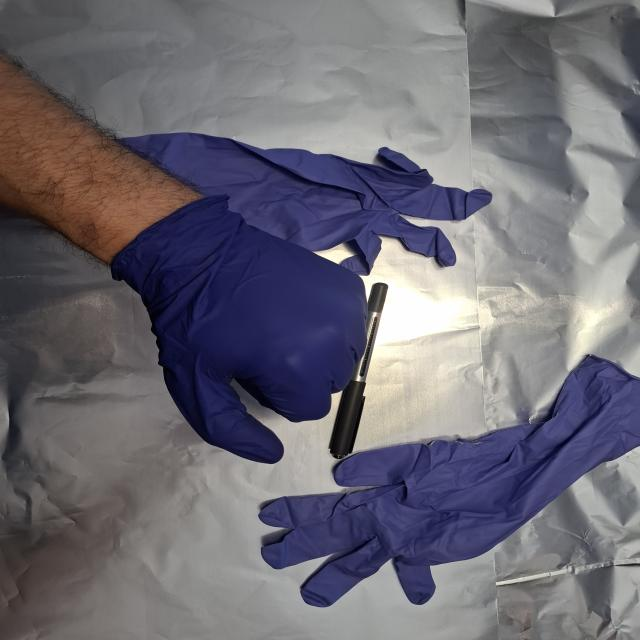glove_on: (112, 197, 376, 468)
